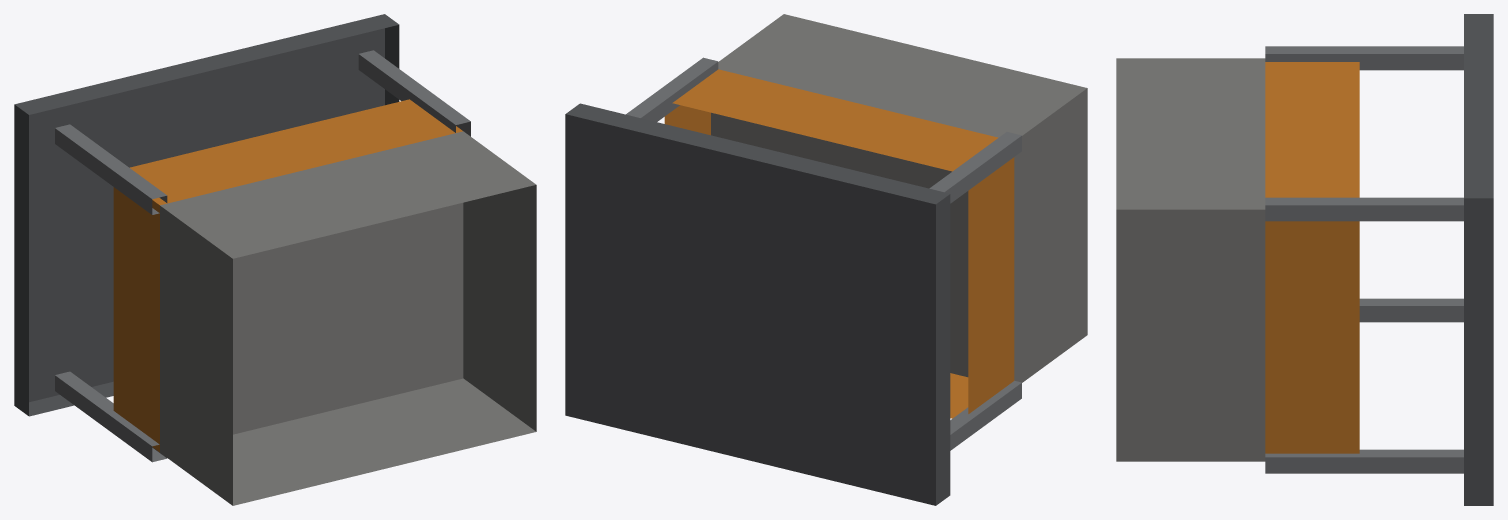
The model's file is marshal_R.fbx.
3 views of the same model, side by side, from view 1: azimuth 30°, elevation 25°; view 2: azimuth 150°, elevation 25°; view 3: azimuth 270°, elevation 25° (orthographic). The views are drawn at different scales.
Visible parts, largest first — view 1: marshal_R; view 2: marshal_R; view 3: marshal_R.
Boxes of the visible parts, x1=… form: marshal_R: x1=14, y1=14, x2=536, y2=505; marshal_R: x1=565, y1=14, x2=1087, y2=505; marshal_R: x1=1116, y1=14, x2=1493, y2=505.
Bounding box in the file's own units: 439 × 380 × 342.
